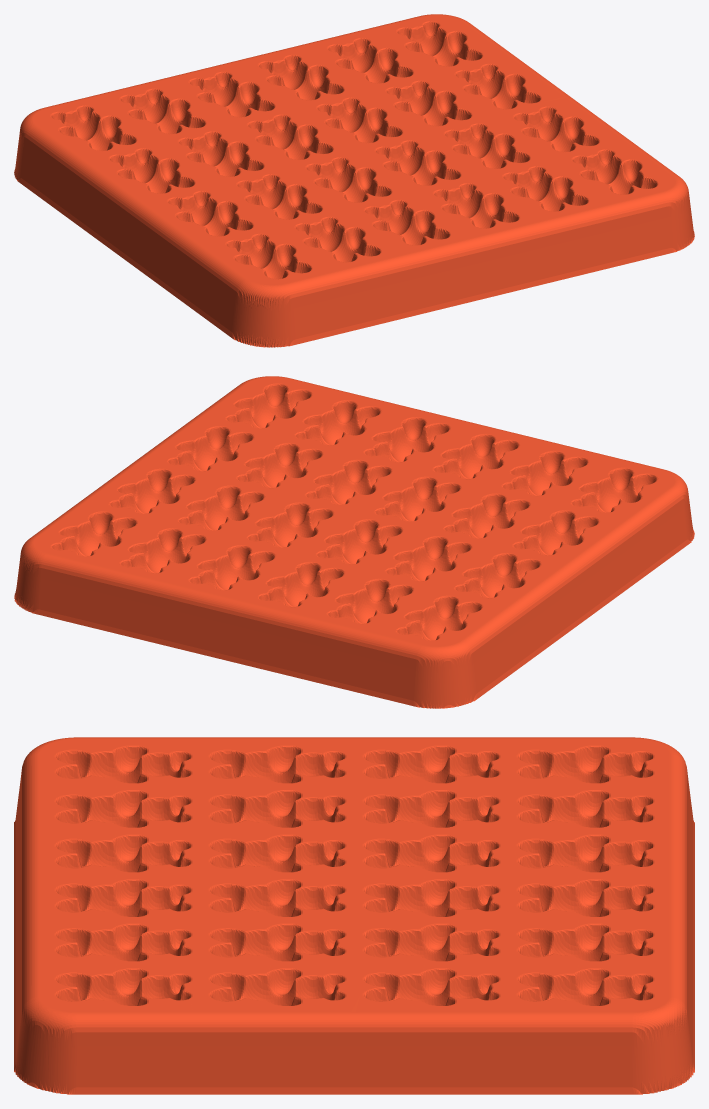
The model's file is mold.glb.
3 renders of one model, top to bottom at view 1: azimuth 30°, elevation 25°; view 2: azimuth 150°, elevation 25°; view 3: azimuth 270°, elevation 25°, orthographic. The views are drawn at different scales.
Parts seen in each view (by area): view 1: geometry_0; view 2: geometry_0; view 3: geometry_0.
Part boxes in pixels (x1=…): geometry_0: x1=14, y1=14, x2=694, y2=347; geometry_0: x1=14, y1=376, x2=694, y2=708; geometry_0: x1=14, y1=737, x2=694, y2=1094.
Bounding box in the file's own units: 0.1003 × 0.0113 × 0.098.
